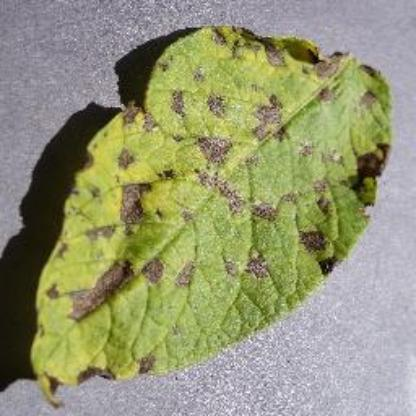Early-Blight: (30, 21, 390, 402)
